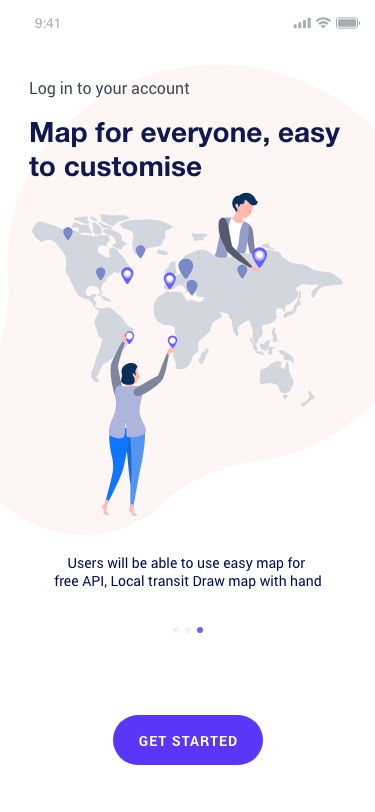Image: (32, 192, 343, 517)
PageIndicator: (173, 626, 205, 635)
Text: (29, 122, 341, 178), (55, 556, 322, 590), (30, 81, 191, 99)
TextButton: (113, 714, 264, 765)
UpperTaskBar: (35, 17, 361, 31)
